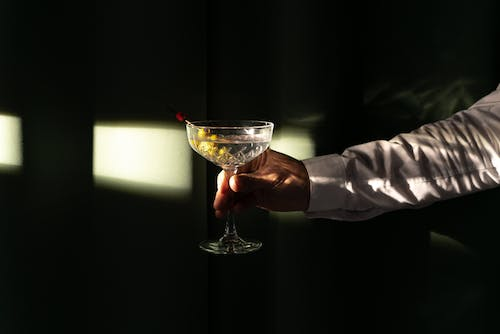alcohol: (185, 118, 275, 255)
